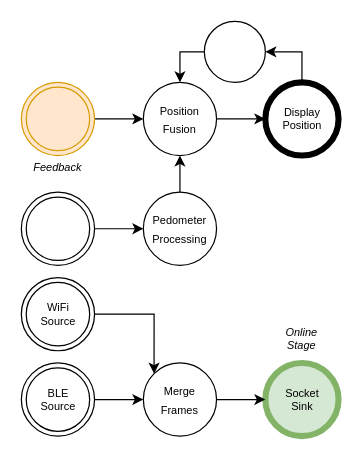
This 362x460 diagram has some shape labels left out. Each missing label, with the centre of its shape:
"IMU/Mag Source" goes at (x=57, y=228).
"Socket Source" goes at (x=57, y=118).
"Velocity Processing" goes at (x=234, y=51).
